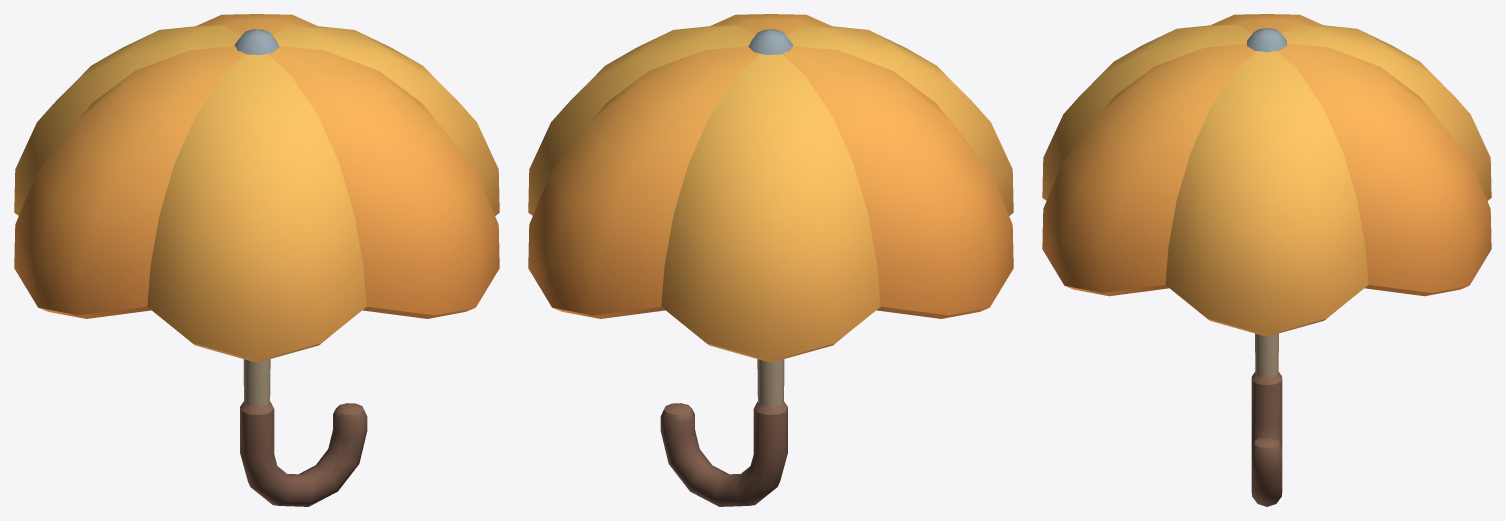
File: umbrella_yellow.fbx
3 renders of one model, left to right at view 1: azimuth 30°, elevation 25°; view 2: azimuth 150°, elevation 25°; view 3: azimuth 270°, elevation 25°, orthographic. The views are drawn at different scales.
Parts seen in each view (by area): view 1: umbrella_yellow; view 2: umbrella_yellow; view 3: umbrella_yellow.
Boxes of the visible parts, x1,y1,x2,y2 form: umbrella_yellow: (14, 14, 499, 506); umbrella_yellow: (528, 14, 1013, 506); umbrella_yellow: (1042, 14, 1491, 506).
Bounding box in the file's own units: 177 × 186 × 168.
